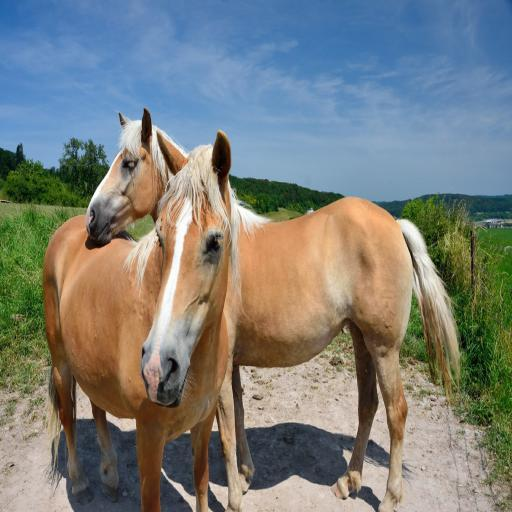horse: (85, 106, 461, 512), (42, 130, 250, 512)
